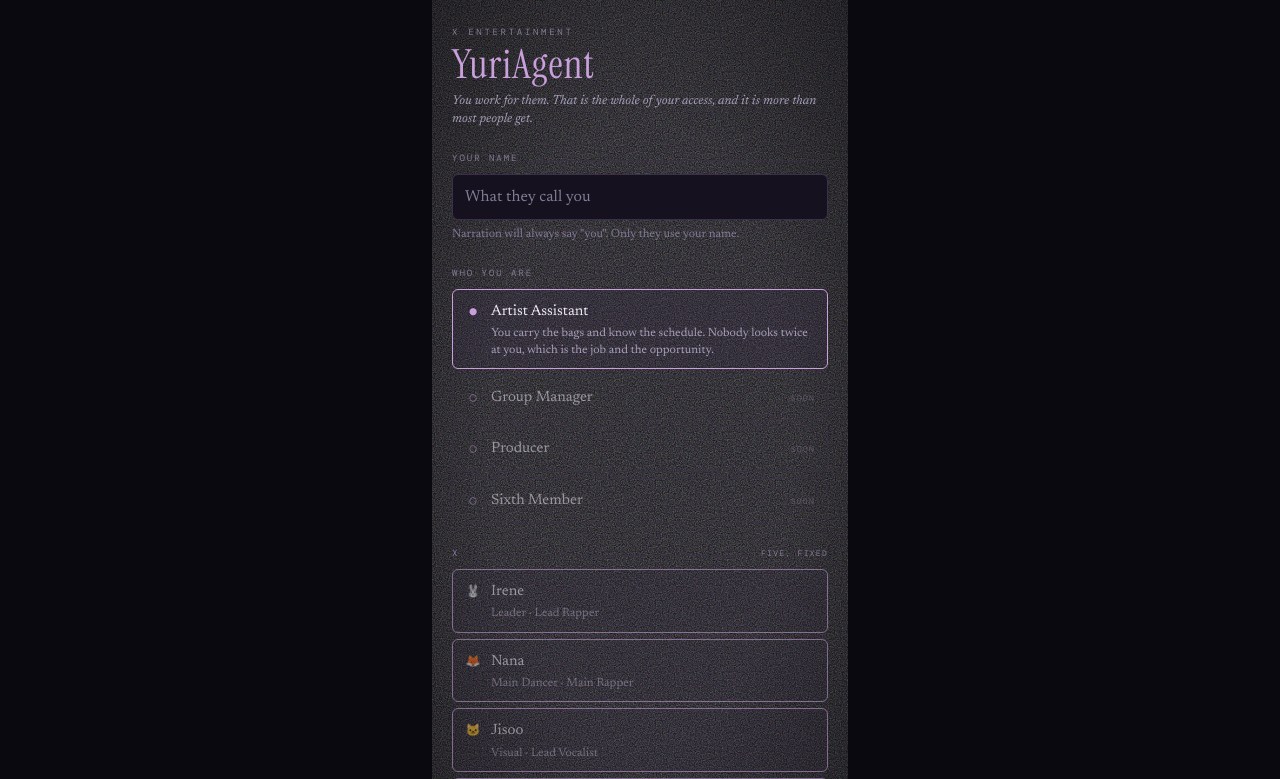
walking into a room › wires the real catalogue into the sheet
The image size is (1280, 779).
In the field: (640, 197) x1=452 y1=174 x2=828 y2=220, type "Yuhan"
(page scrolled)
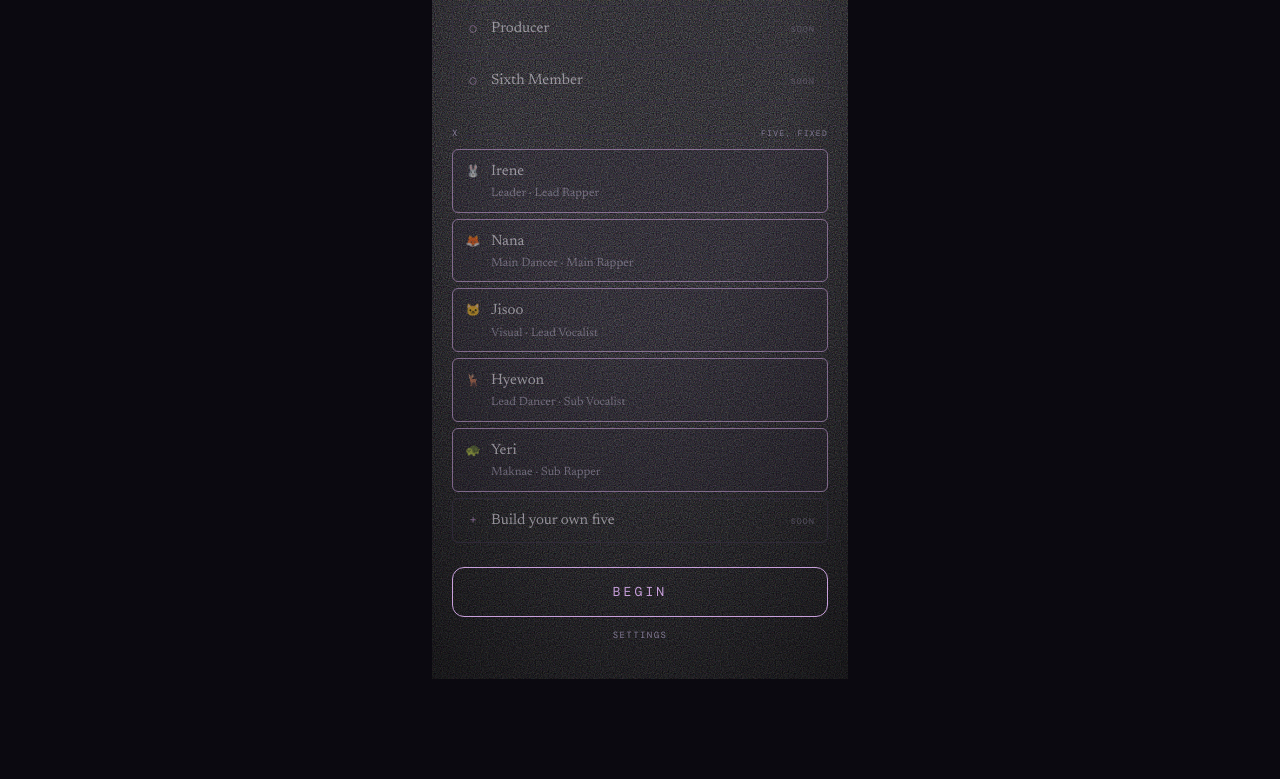
Click the button "Begin": (640, 592) x1=452 y1=567 x2=828 y2=617
(page scrolled)
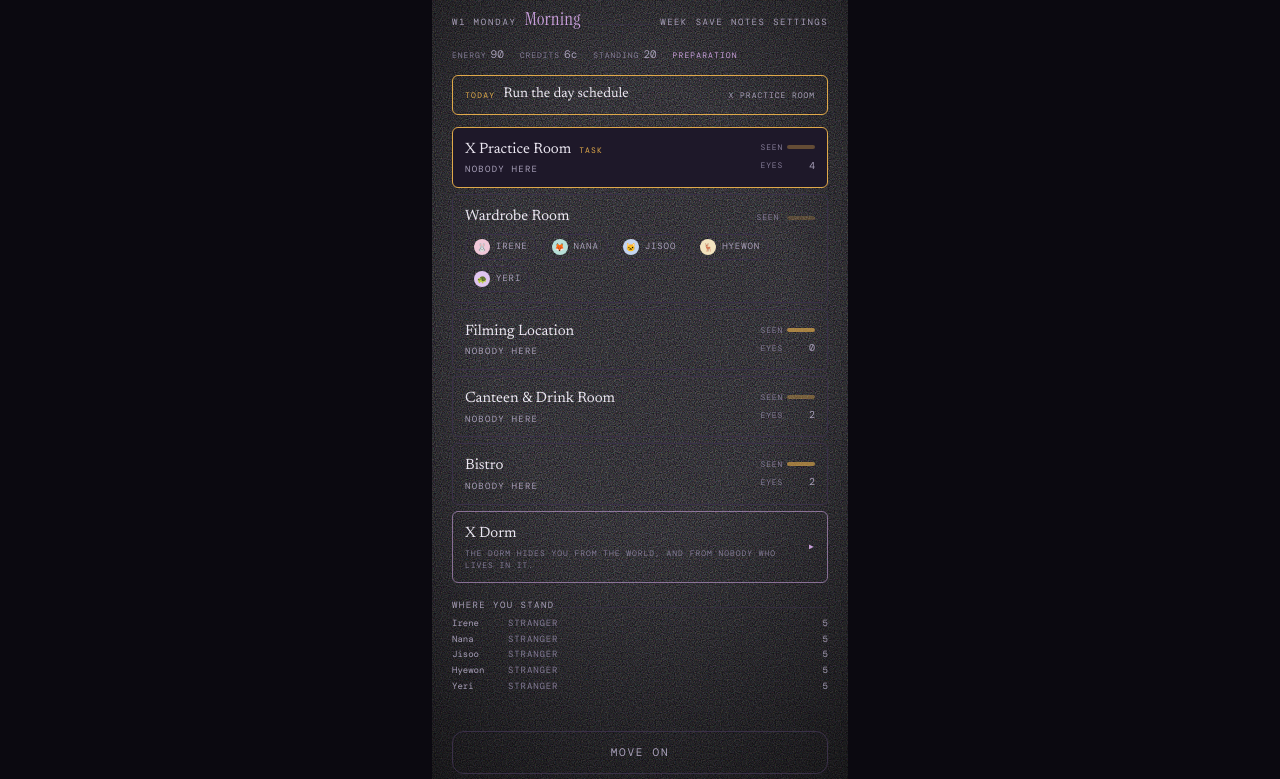
Expected: the button "Week" is shown, x1=660 y1=16 x2=688 y2=30
Click the button "🐰 Irene": (501, 247) x1=465 y1=234 x2=536 y2=260
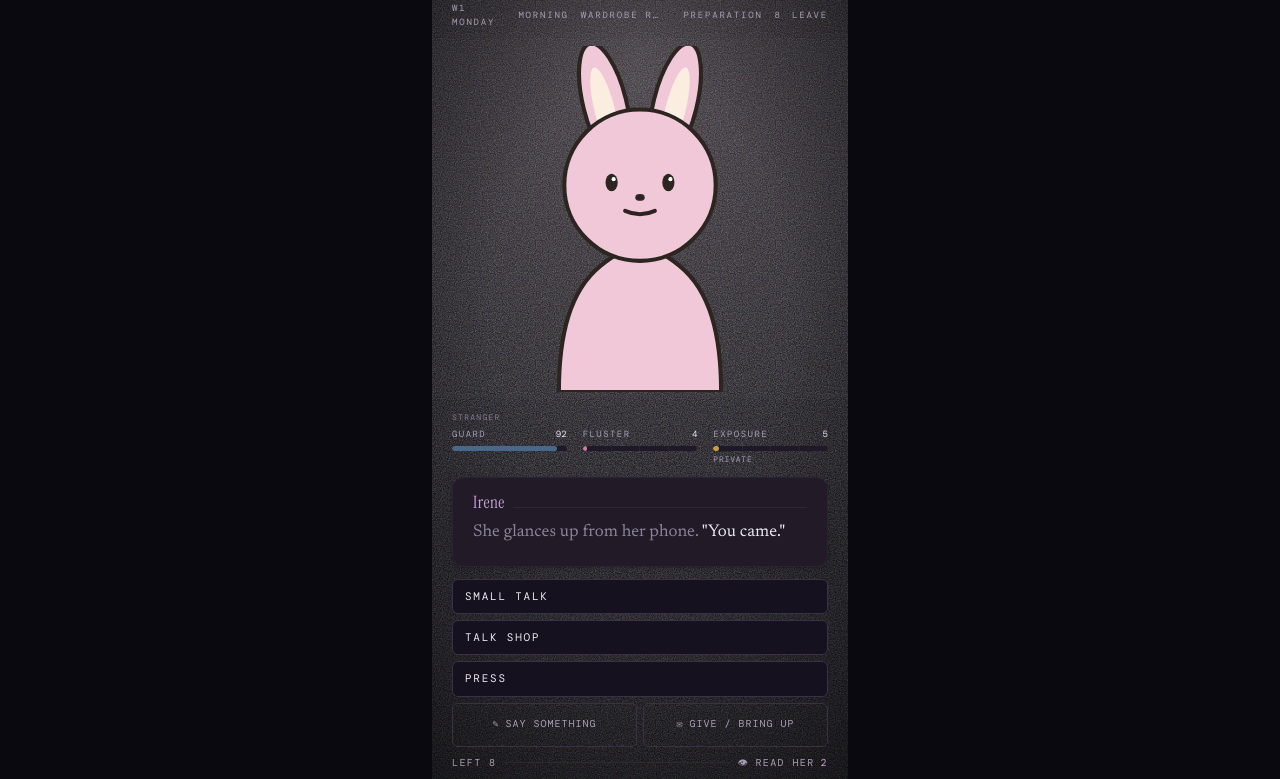
Expected: the button "✉ Give / bring up" is enabled
Click the button "✉ Give / bring up": (736, 724) x1=643 y1=702 x2=828 y2=746
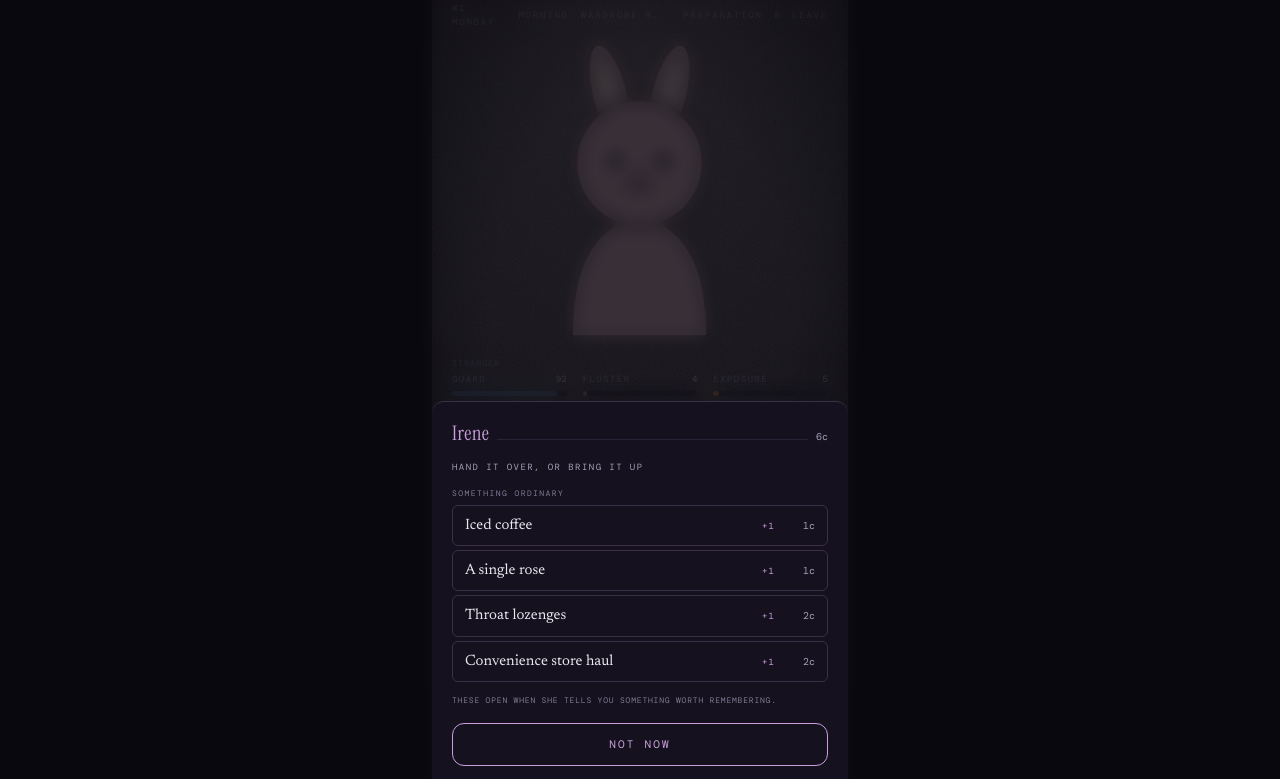
Expected: the text "Hand it over, or bring it up" is shown, x1=452 y1=461 x2=644 y2=473
Expected: the text "A single rose" is shown, x1=465 y1=563 x2=545 y2=578
Expected: the text "These open when she tells you something worth remembering." is shown, x1=452 y1=694 x2=828 y2=707
